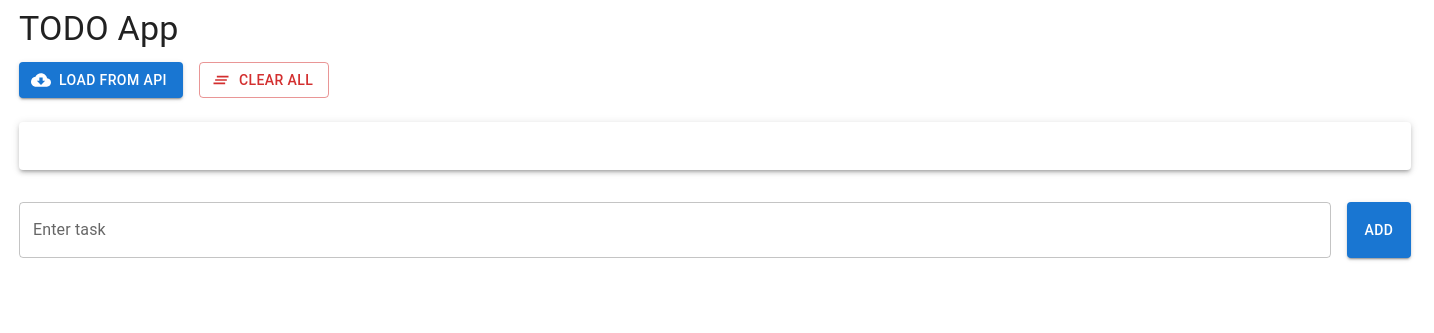
Test: TODO App › adds a new todo item to the list
Type "Buy milk" into the field labelled "Enter task" at (675, 230), box [19,202,1331,258]
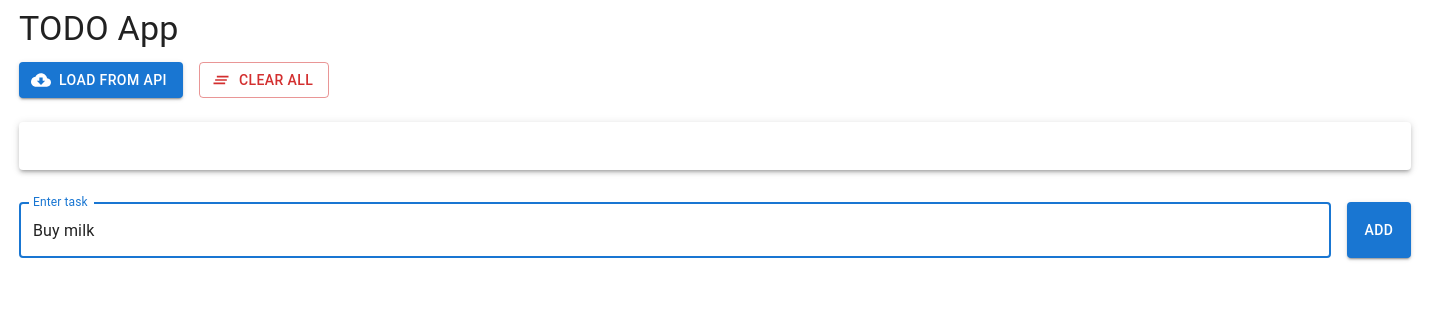
Click the button "Add" at (1379, 230), box [1347,202,1411,258]
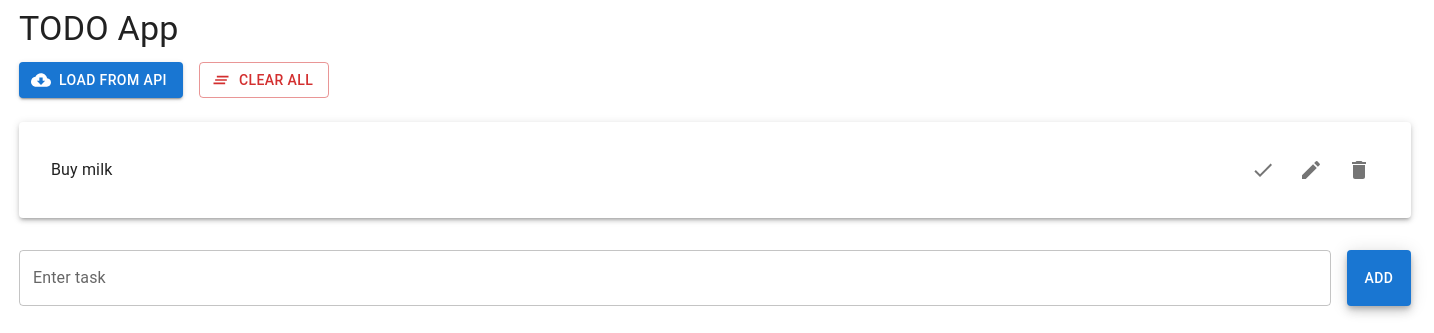
Check: the text "Buy milk" is shown, box [51,160,112,179]
